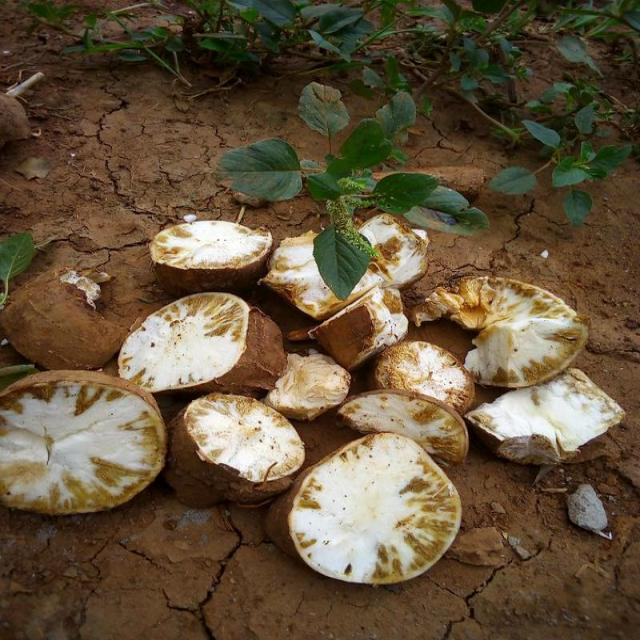cassava leaf: (1, 202, 625, 586), (214, 79, 487, 300), (273, 430, 462, 585), (0, 368, 167, 515)
